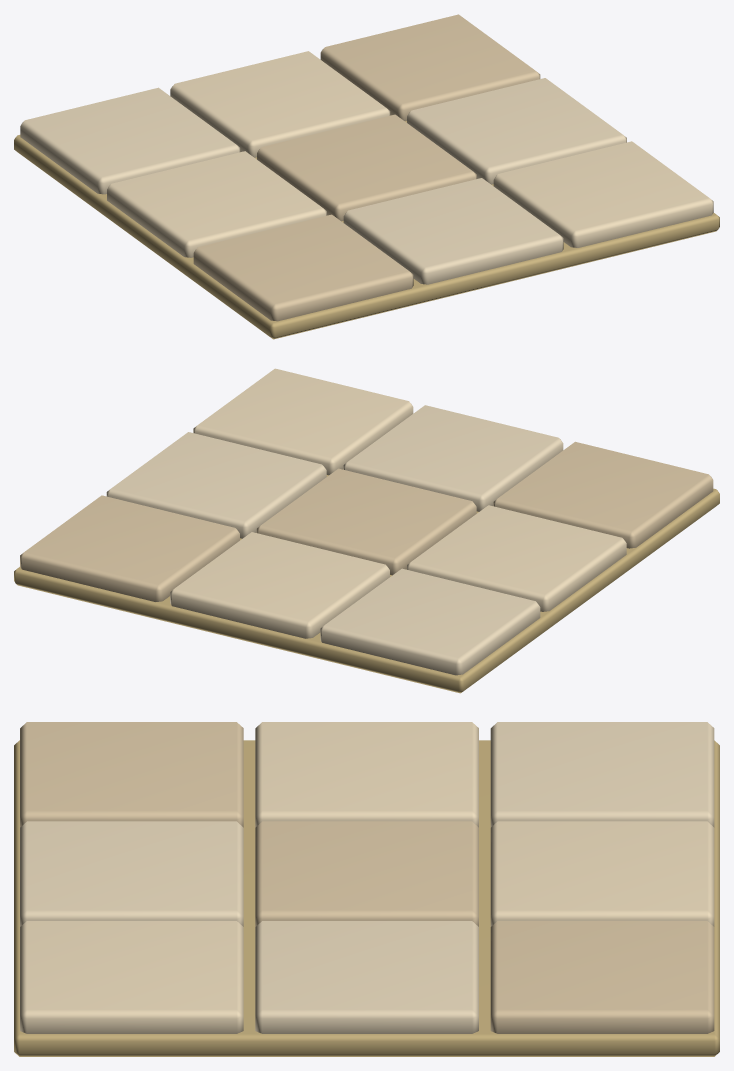
File: road.glb
3 views of the same model, one above another, from view 1: azimuth 30°, elevation 25°; view 2: azimuth 150°, elevation 25°; view 3: azimuth 270°, elevation 25° (orthographic). The views are drawn at different scales.
Visible parts, largest first — view 1: road; view 2: road; view 3: road.
Part boxes in pixels (x1,y1,x2,y2): road: [14, 14, 719, 339]; road: [14, 368, 719, 693]; road: [14, 722, 719, 1056].
Size of the model in its own units: 1 by 0.0695 by 1.
